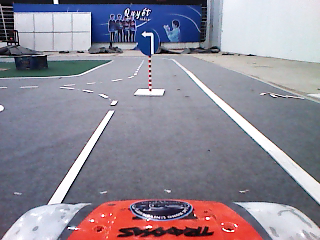turn: (136, 28, 161, 57)
